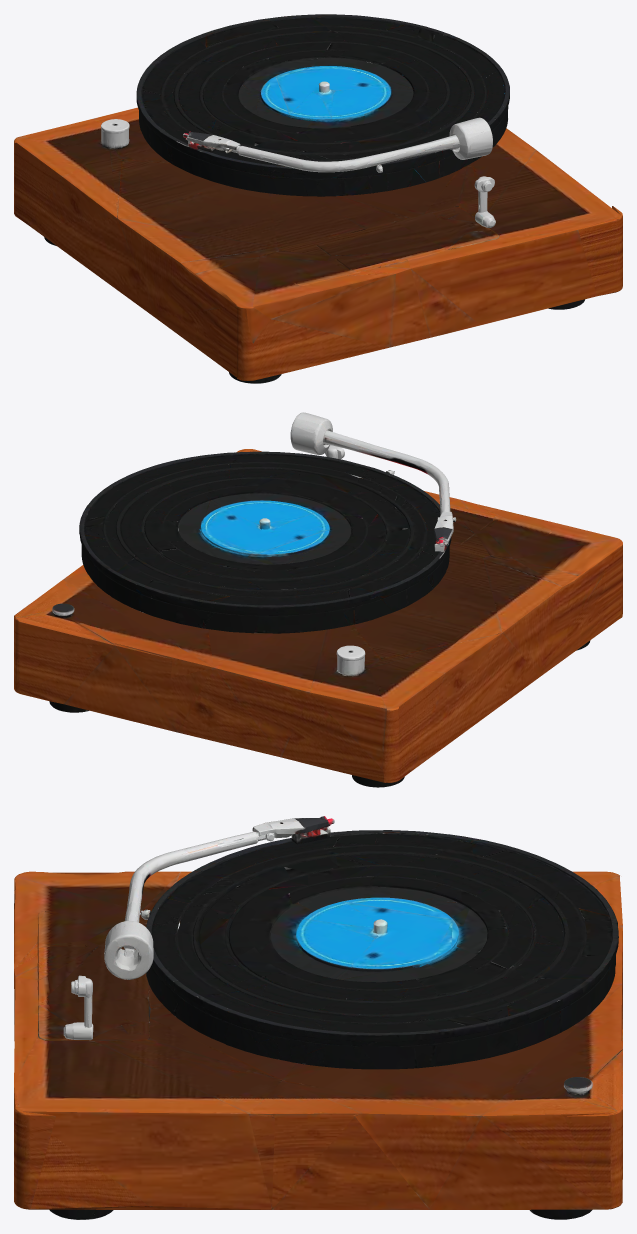
The model's file is turntable.glb.
3 renders of one model, top to bottom at view 1: azimuth 30°, elevation 25°; view 2: azimuth 150°, elevation 25°; view 3: azimuth 270°, elevation 25°, orthographic. The views are drawn at different scales.
Bounding box in the file's own units: 1.8 × 0.811 × 1.9.
Materials: 1 (1 with a texture image).
